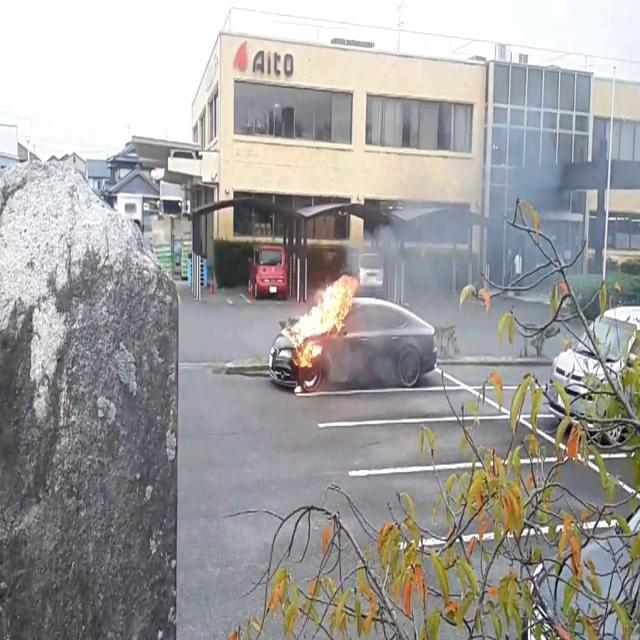Fire: (282, 266, 360, 376)
Smoke: (364, 182, 516, 348)
